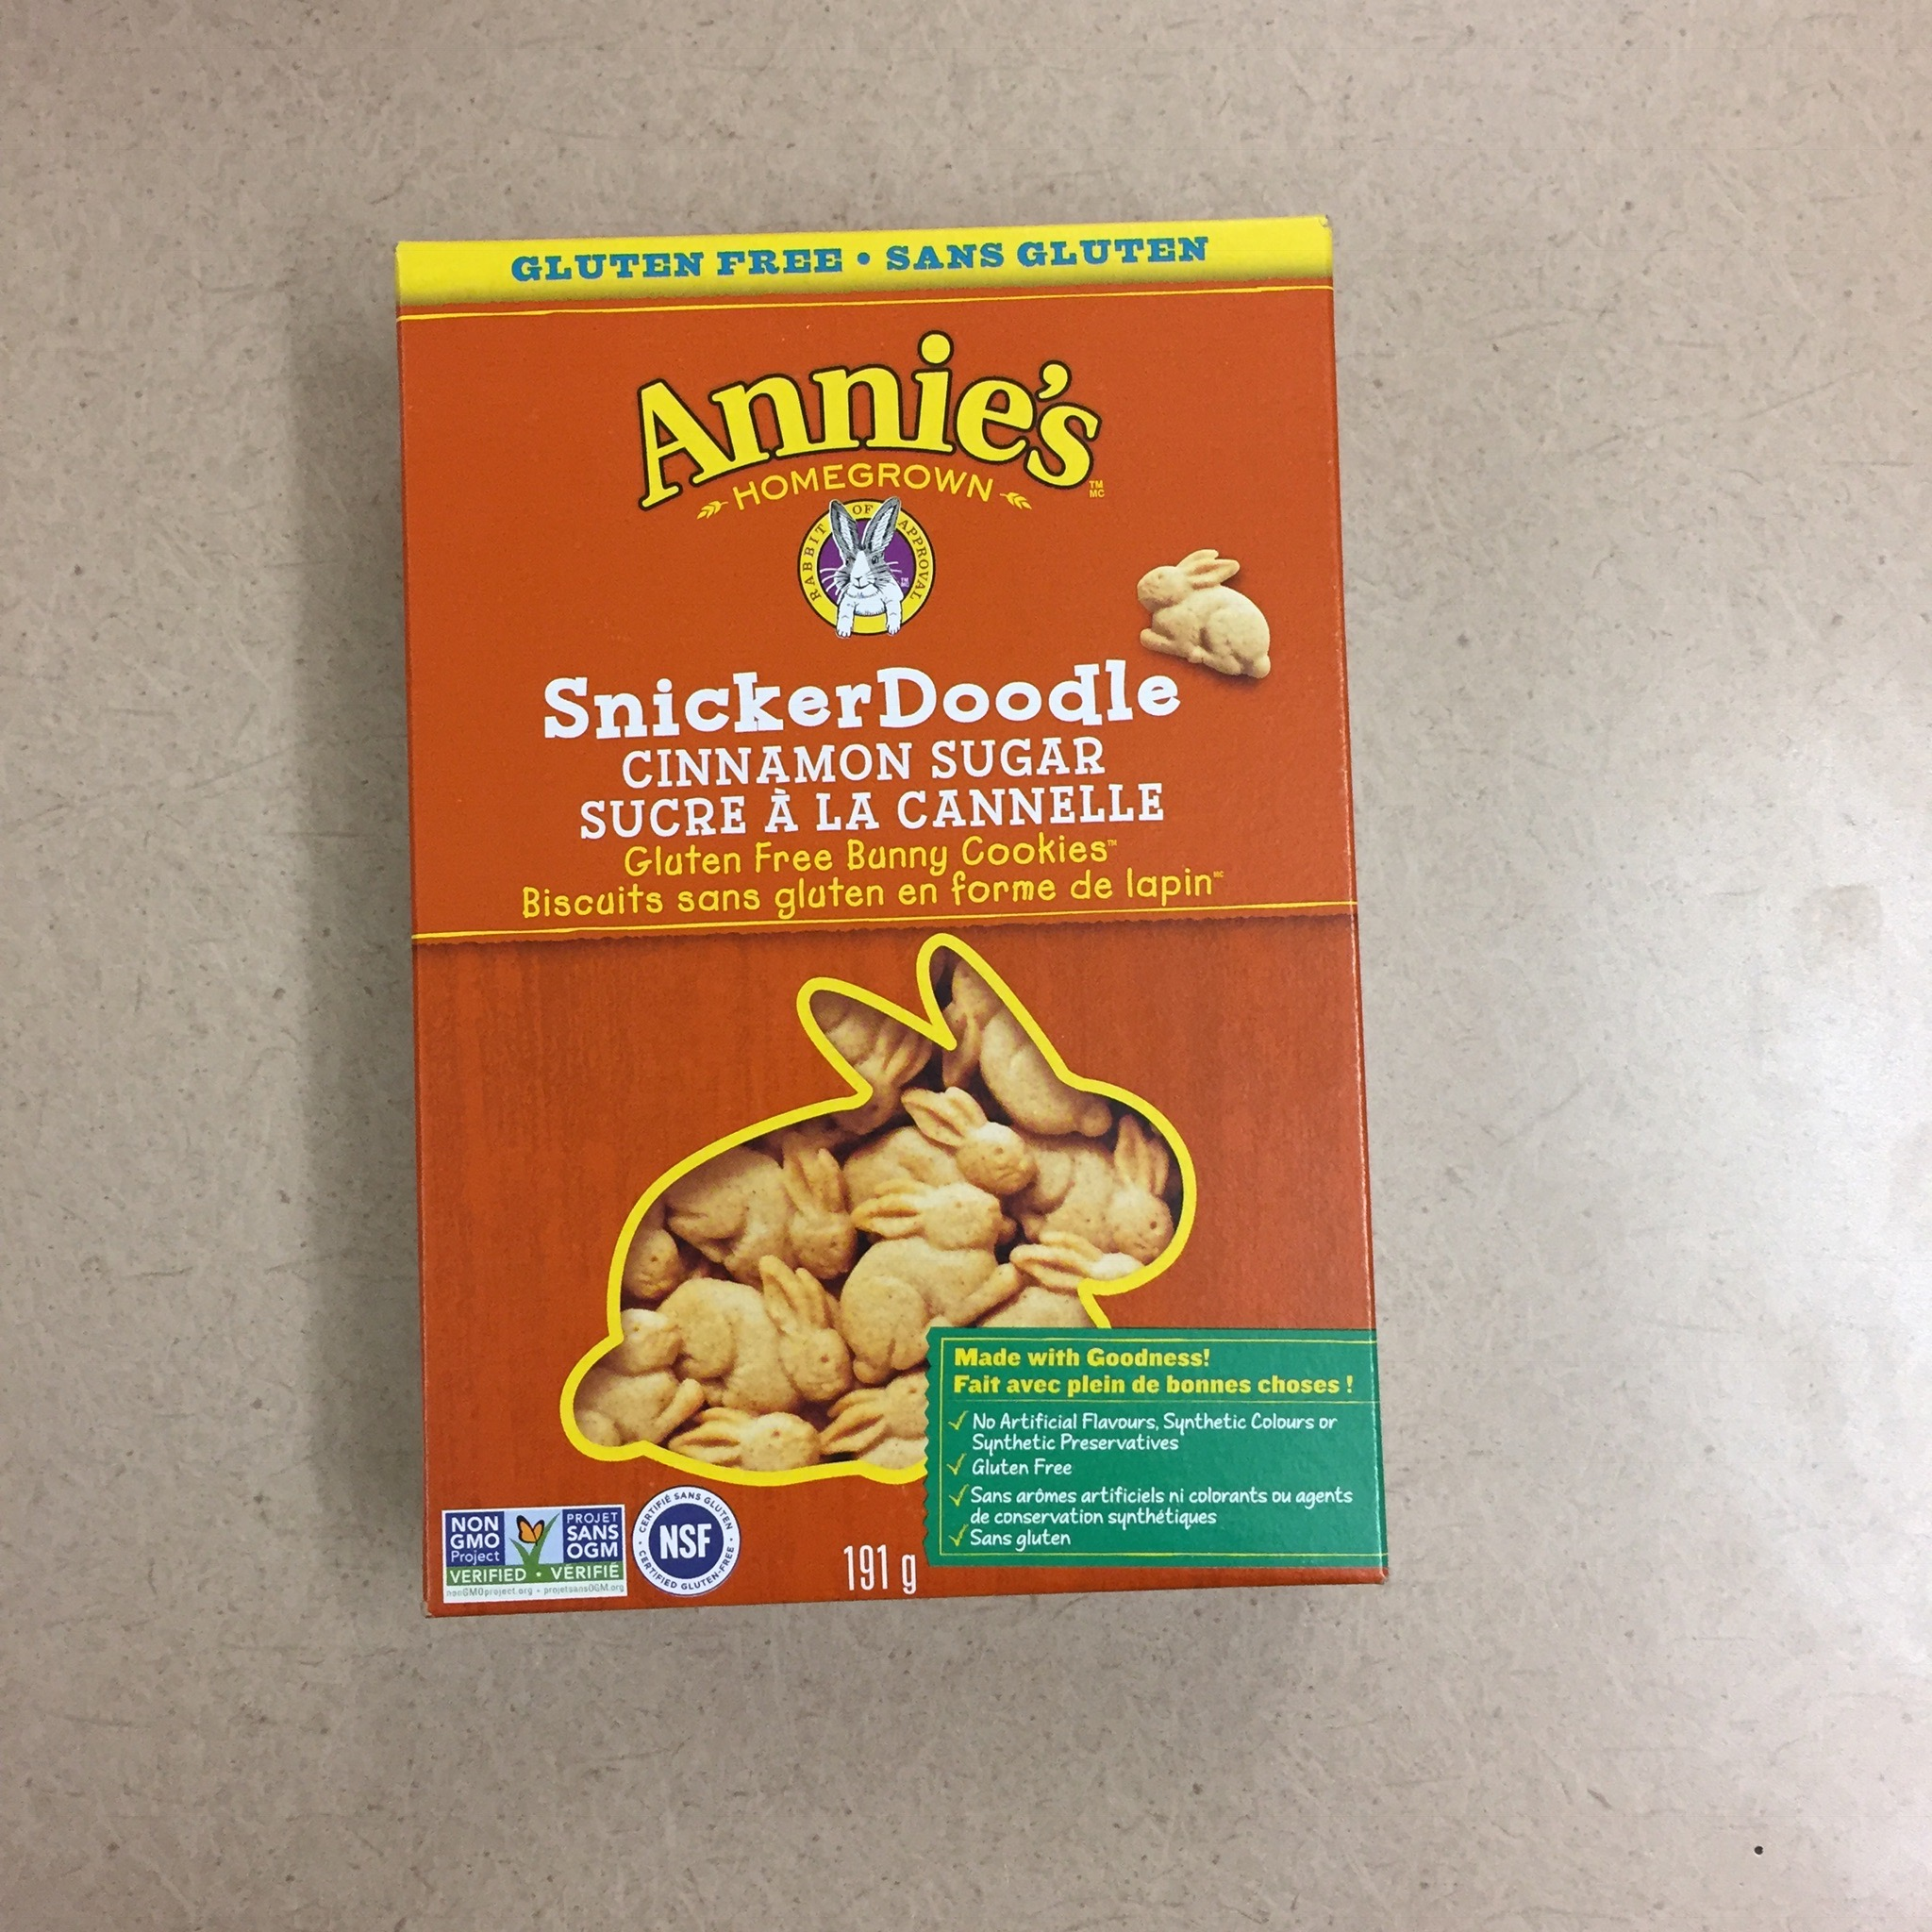annies_snickerdoodle_cinnamon_sugar: (387, 207, 1396, 1624)
